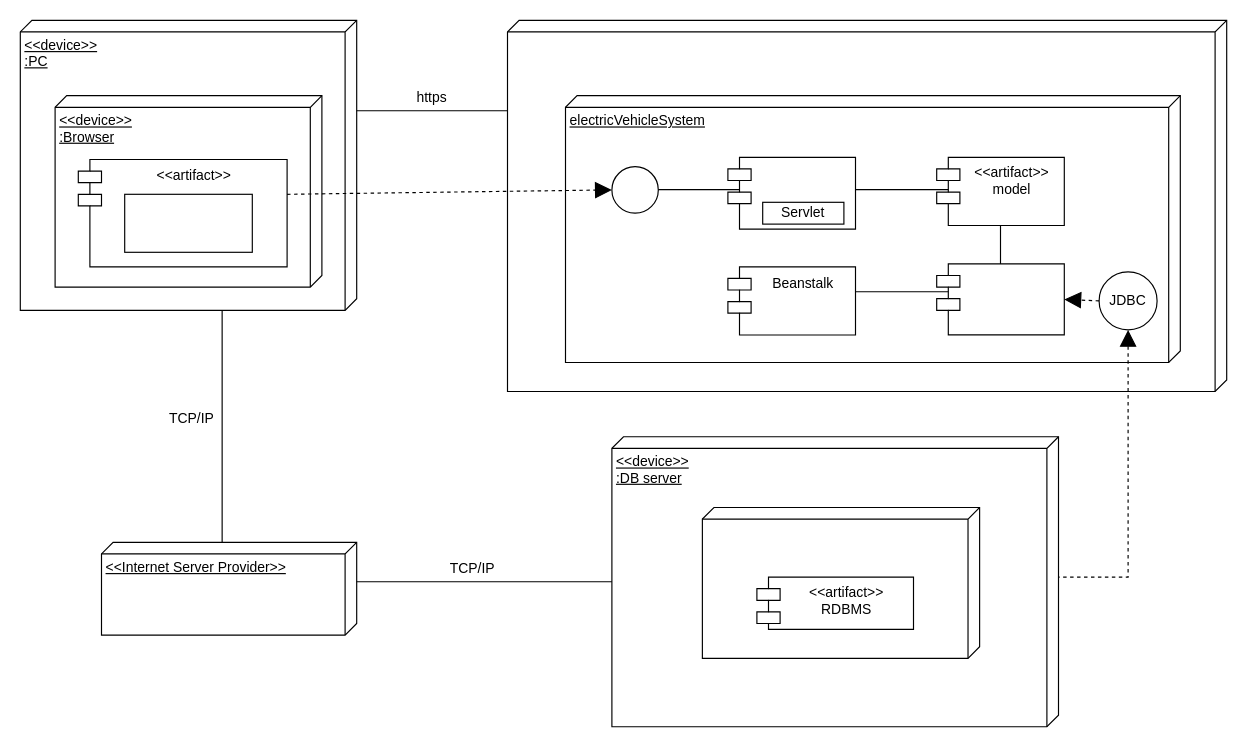
This 1247x747 diagram has some shape labels left out. Each missing label, with the box of its shape:
<<artifact>> controller: (727, 156, 855, 229)
<<artifact>> DAO: (936, 263, 1064, 335)
<<database>> :electricVehicleSystem.db: (701, 506, 980, 658)
<<device>> :Web Server: (506, 19, 1227, 392)
HTTP: (611, 166, 658, 213)
JSP/JS/CSS: (124, 193, 252, 252)
